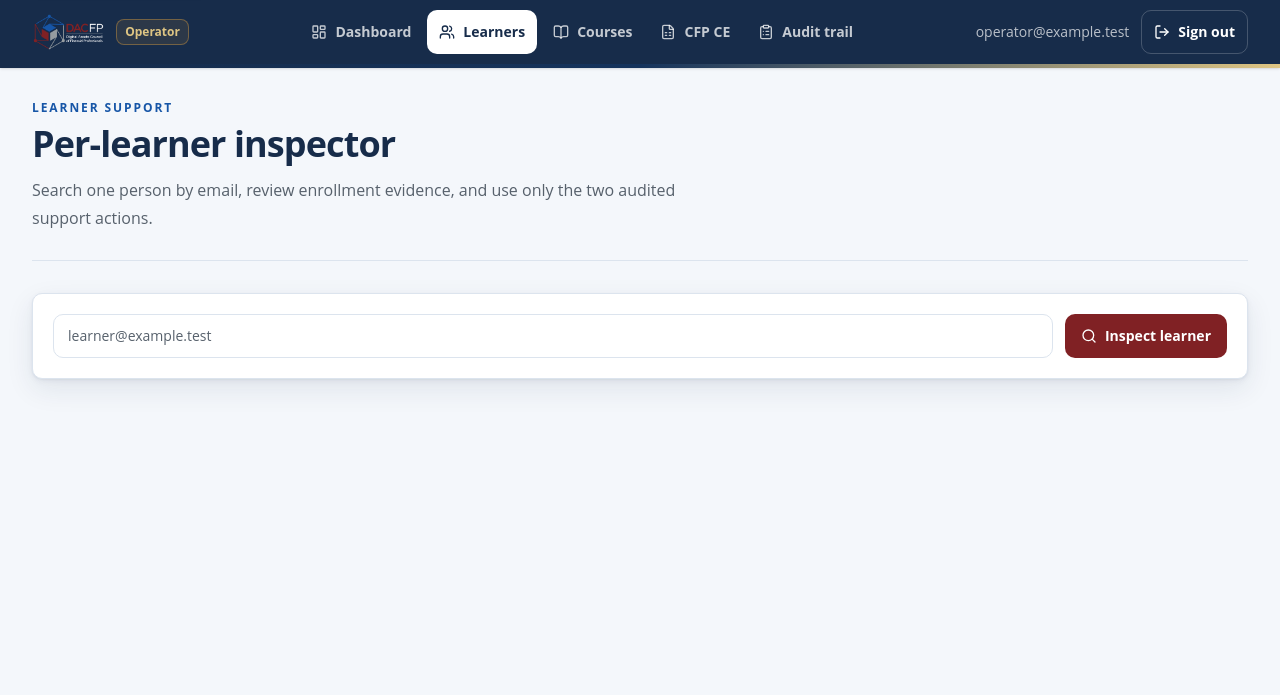
Admin inspector — brief #21 (no JSON dumps) › shows enrollment evidence as structured facts
Type "jordan@example.test" into the field named "Learner email" at (553, 336), box [53,314,1053,358]
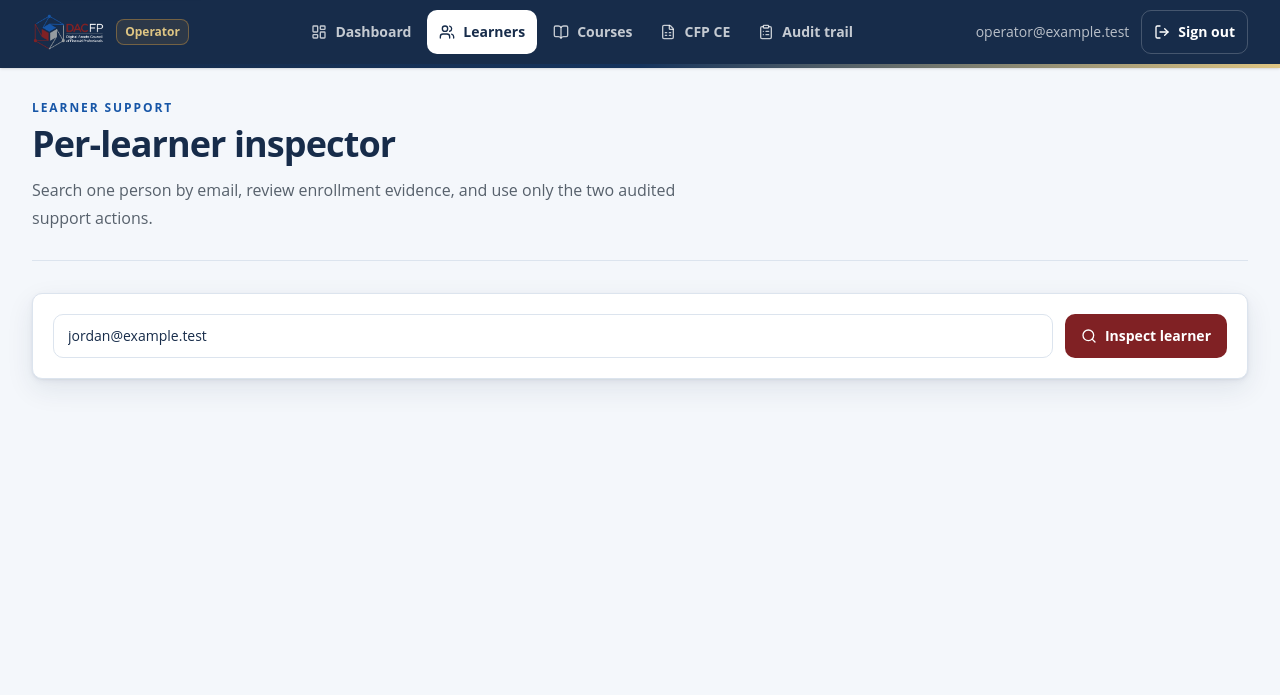
Click the button "Inspect learner" at (1146, 336), box [1065,314,1227,358]
(page scrolled)
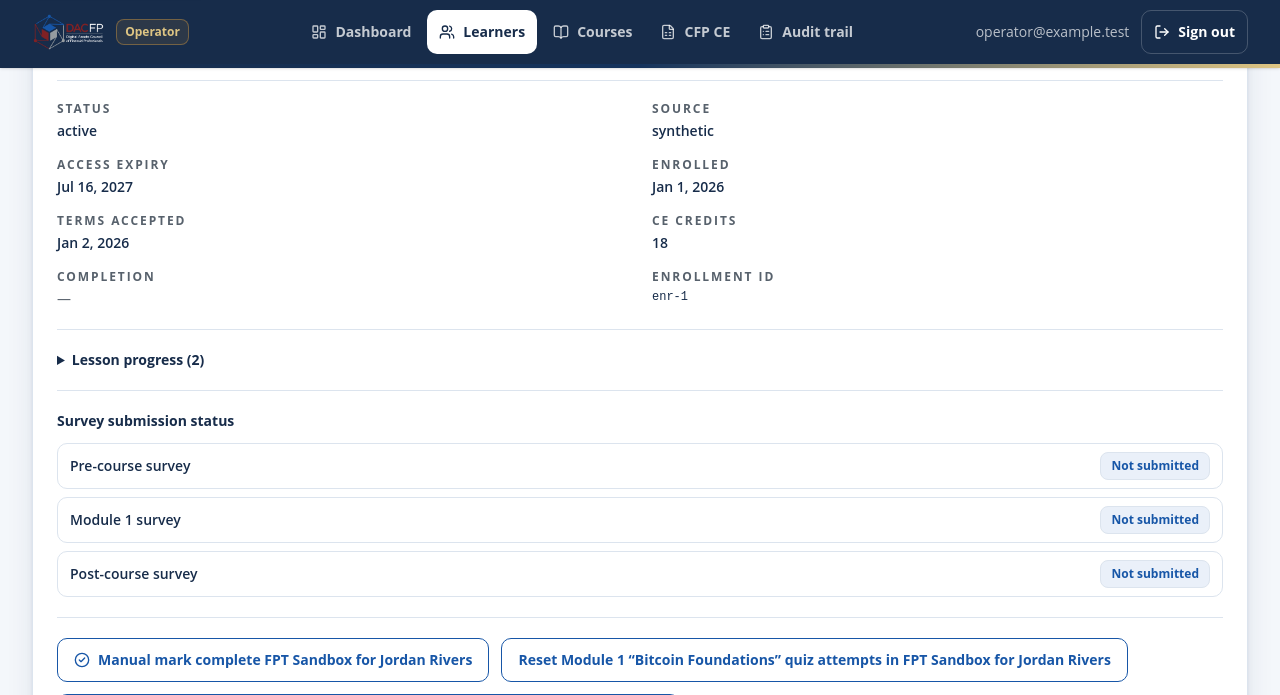
Check: the text "Access expiry" is shown, box [57,156,170,173]
Check: the text "Terms accepted" is shown, box [57,212,186,229]
Click the heading "Lesson progress (2)" at (138, 360), box [72,350,204,369]
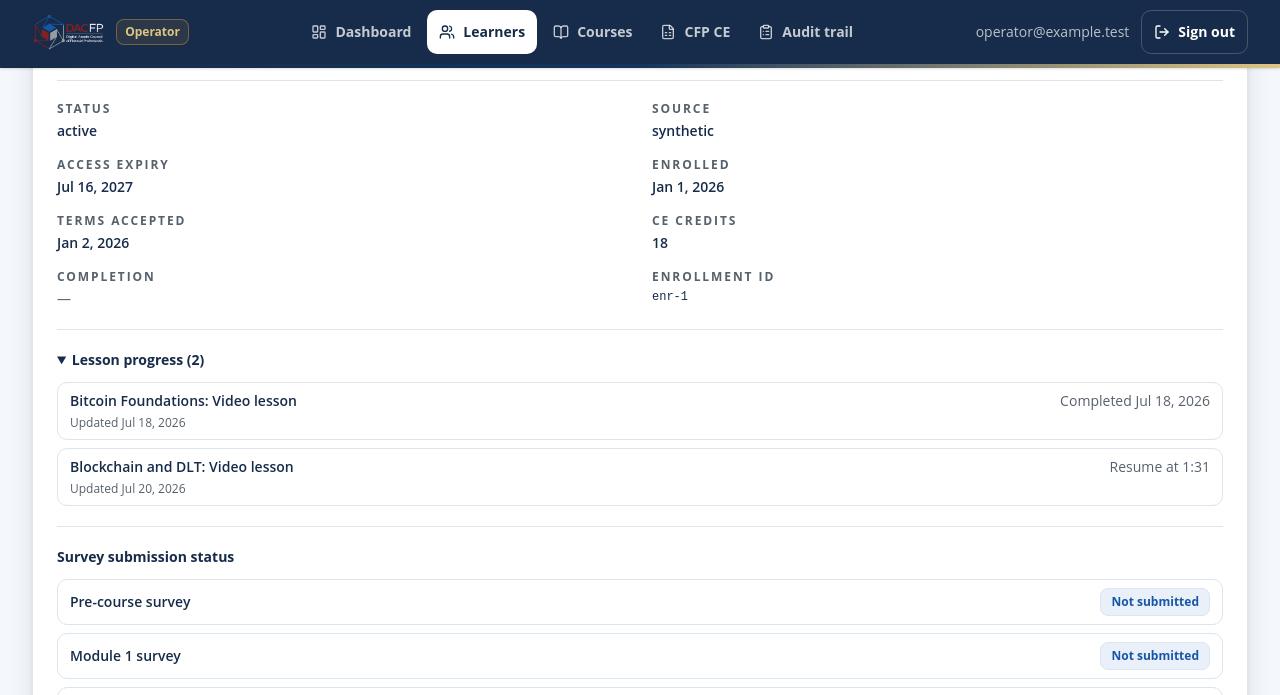
Check: the text "Bitcoin Foundations: Video lesson" is shown, box [70,391,297,410]
Check: the text "Completed Jul 18, 2026" is shown, box [1060,391,1210,411]
Check: the text "Blockchain and DLT: Video lesson" is shown, box [70,457,294,476]
